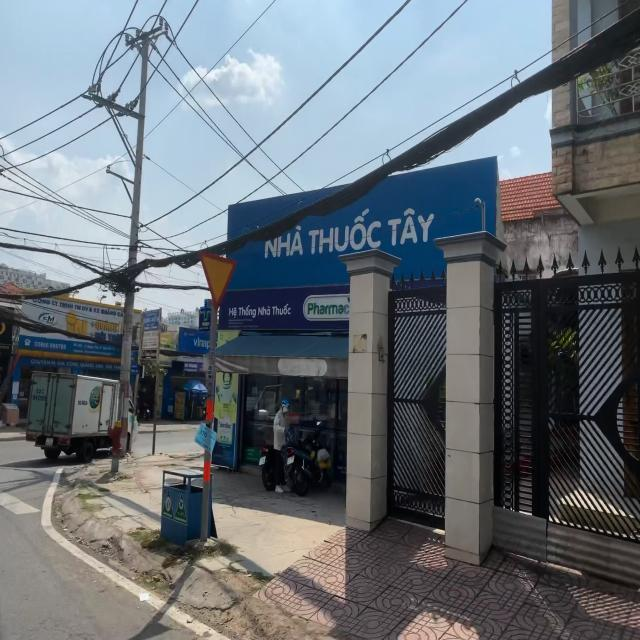Giao voi duong uu tien: (194, 244, 238, 312)
